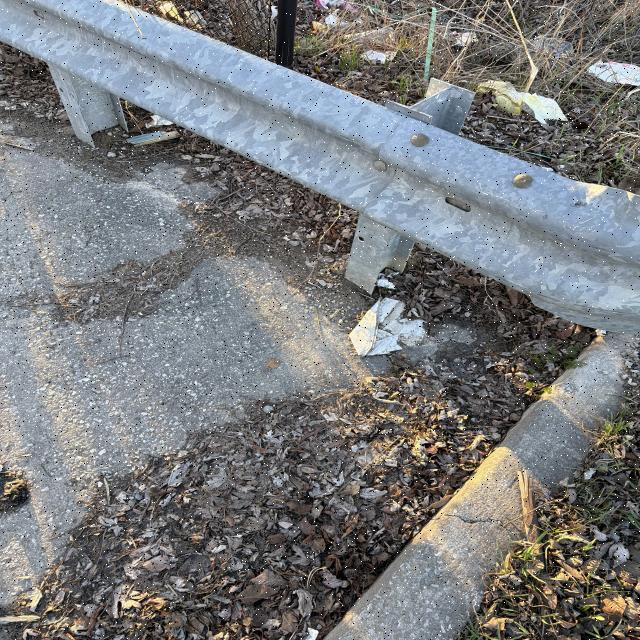Guard rail: (2, 5, 614, 288)
